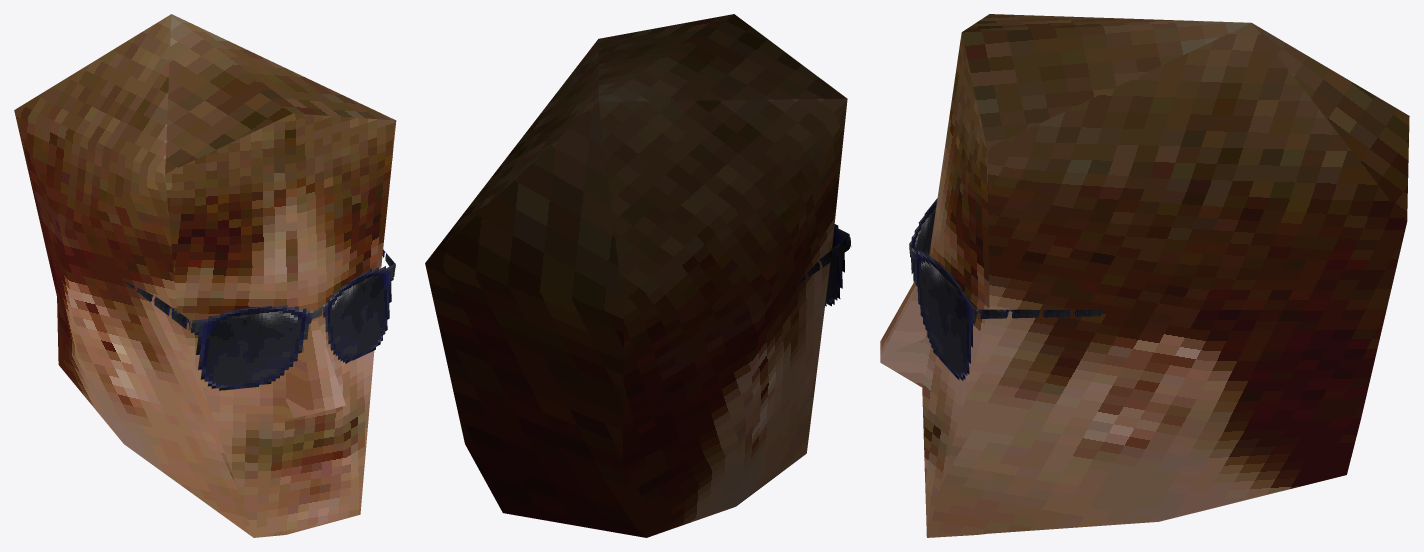
File: CheadsteveeZ.obj
3 views of the same model, side by side, from view 1: azimuth 30°, elevation 25°; view 2: azimuth 150°, elevation 25°; view 3: azimuth 270°, elevation 25° (orthographic). The views are drawn at different scales.
Bounding box in the file's own units: 150 × 244 × 228.
Materials: 6 (6 with a texture image).
